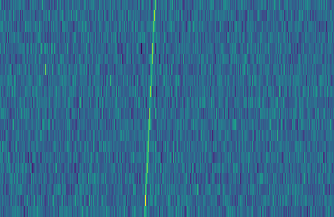signal: (140, 0, 160, 217)
